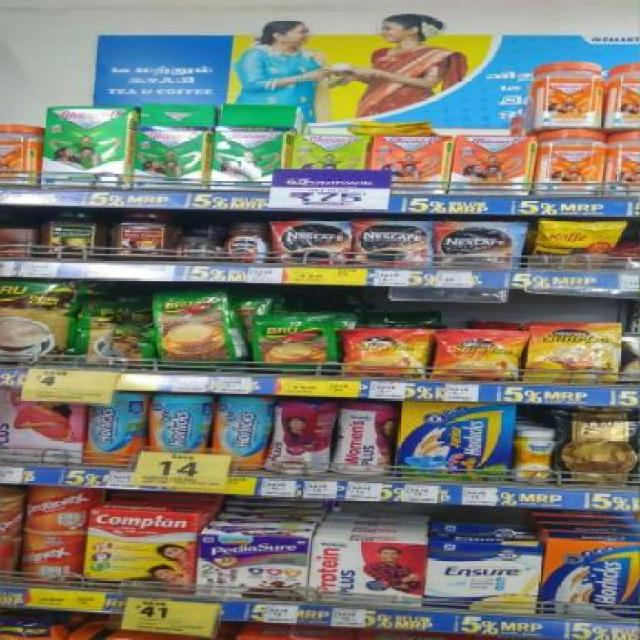Coffee: (529, 324, 616, 385), (341, 330, 427, 379), (435, 222, 522, 270), (436, 332, 519, 382), (352, 220, 433, 266), (270, 221, 350, 265), (222, 224, 270, 262), (175, 237, 223, 260)
